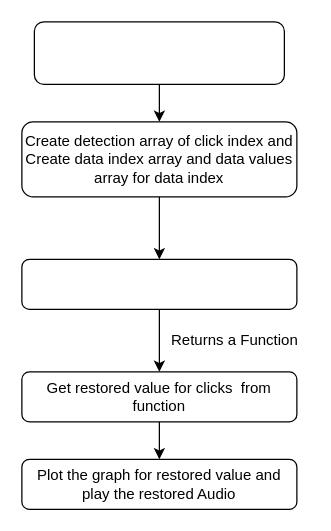
Some shapes in this 331 by 531 pixel diagram are drawn without their labels. Here are the shapes that lost their labels. From the top down, the centre of each, then its label:
(158,52): Read the degraded Audio data
(159,283): Apply CubicSpline(x_data,y_data)
